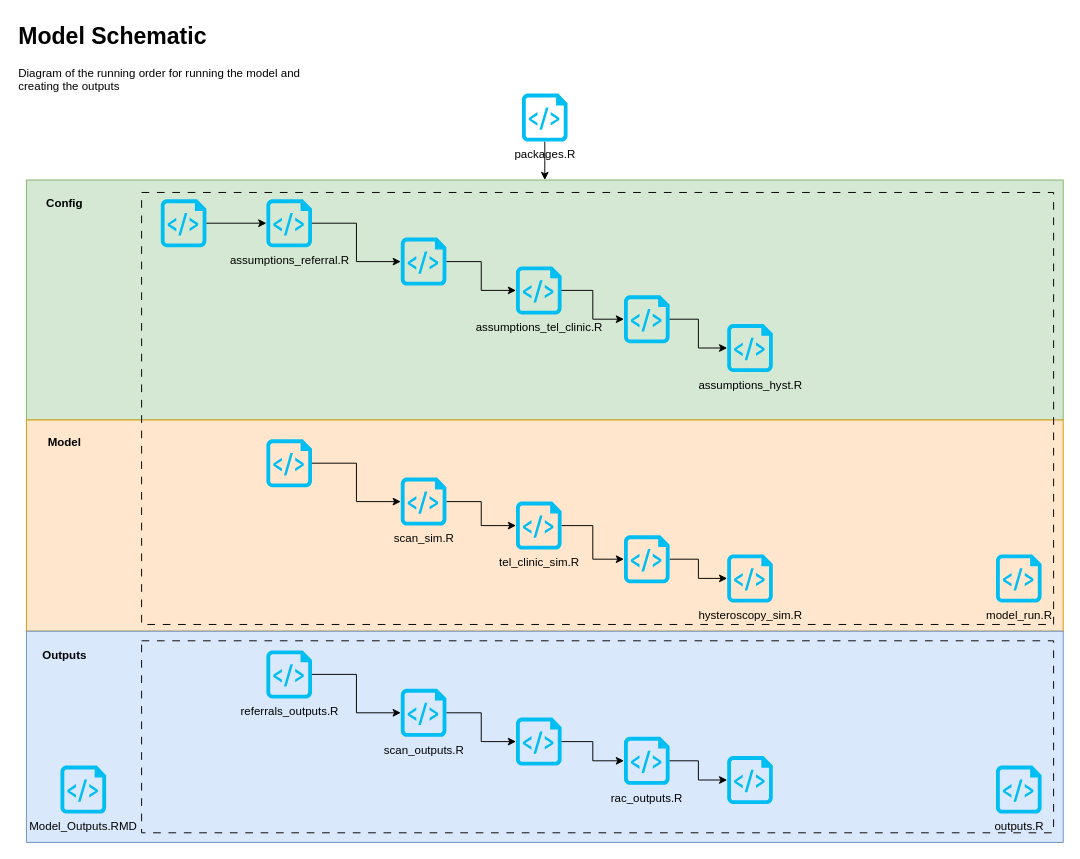
This 1080x859 diagram has some shape labels left out. Each missing label, with the centre of its shape:
assumptions_rac.R: (646,319)
assumptions_scan.R: (423,261)
hysteroscopy_settings_outputs.R: (749,780)
model_inputs.R: (183,223)
rac_sim.R: (646,559)
referrals_generation.R: (289,463)
telephone_clinic_outputs.R: (538,741)
